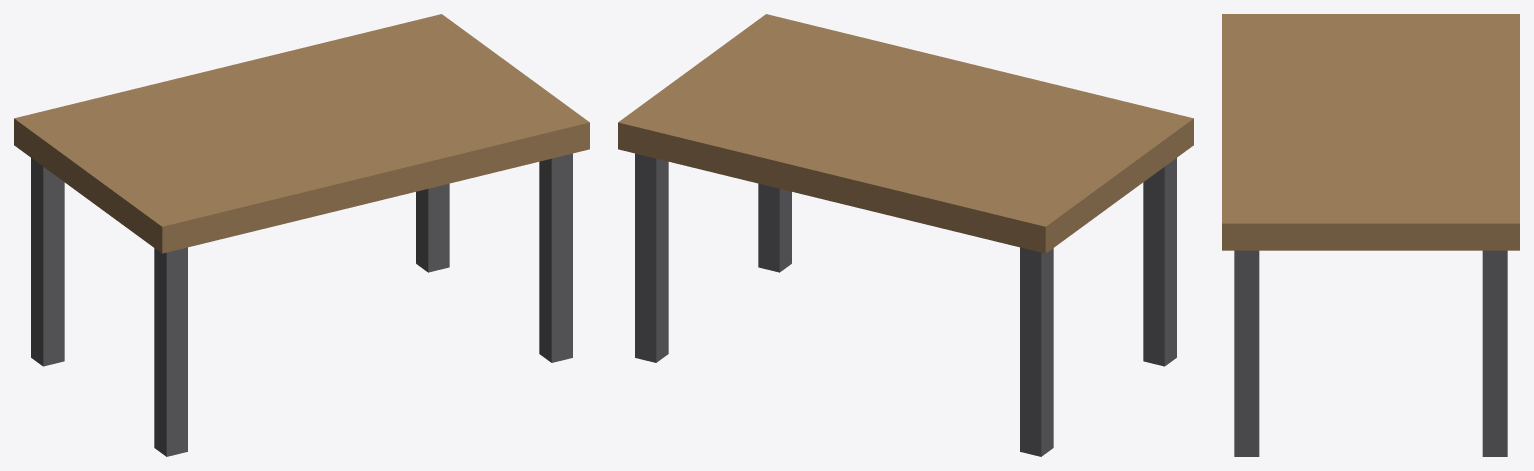
The model's file is ProcTable.glb.
3 views of the same model, side by side, from view 1: azimuth 30°, elevation 25°; view 2: azimuth 150°, elevation 25°; view 3: azimuth 270°, elevation 25° (orthographic).
Parts seen in each view (by area): view 1: geometry_0; view 2: geometry_0; view 3: geometry_0.
Boxes of the visible parts, x1=… form: geometry_0: x1=14, y1=14, x2=589, y2=456; geometry_0: x1=618, y1=14, x2=1193, y2=456; geometry_0: x1=1222, y1=14, x2=1519, y2=456.
Size of the model in its own units: 2 by 1.06 by 1.2.
